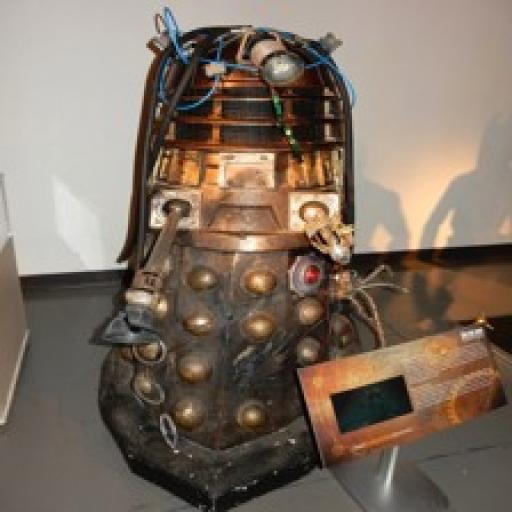dalek: (94, 23, 366, 511)
